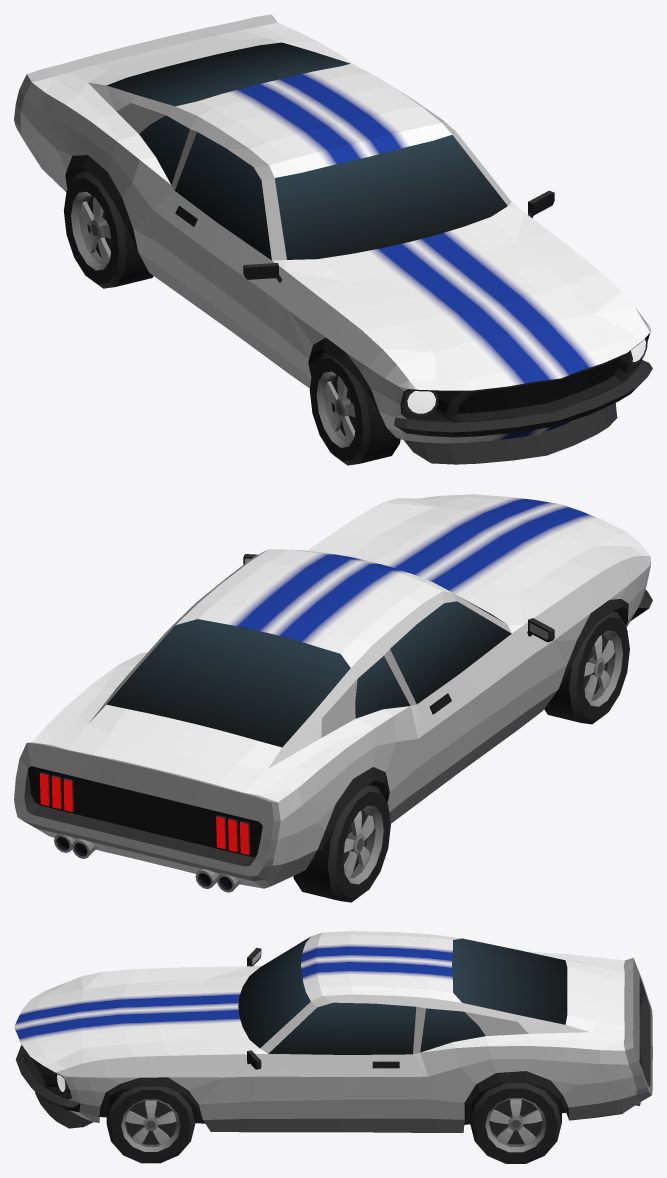
Rendered from car_mustang.glb.
The picture shows the model from 3 angles, top to bottom: view 1: azimuth 30°, elevation 25°; view 2: azimuth 150°, elevation 25°; view 3: azimuth 270°, elevation 25°; orthographic projection. The views are drawn at different scales.
Visible parts, largest first — view 1: Chassis_Body, Wheel_RR, Wheel_FR; view 2: Chassis_Body, Wheel_RR, Wheel_FR; view 3: Chassis_Body, Wheel_RL, Wheel_FL.
Part boxes in pixels (x1,y1,x2,y2): Chassis_Body: (14,14,652,464); Wheel_RR: (64,170,153,288); Wheel_FR: (309,352,400,465); Chassis_Body: (14,494,652,892); Wheel_RR: (293,784,390,902); Wheel_FR: (544,611,629,724); Chassis_Body: (14,931,652,1132); Wheel_RL: (470,1081,561,1163); Wheel_FL: (106,1086,195,1163).
Bounding box in the file's own units: 1.9 × 1.22 × 4.5.
Materials: 2 (2 with a texture image).
